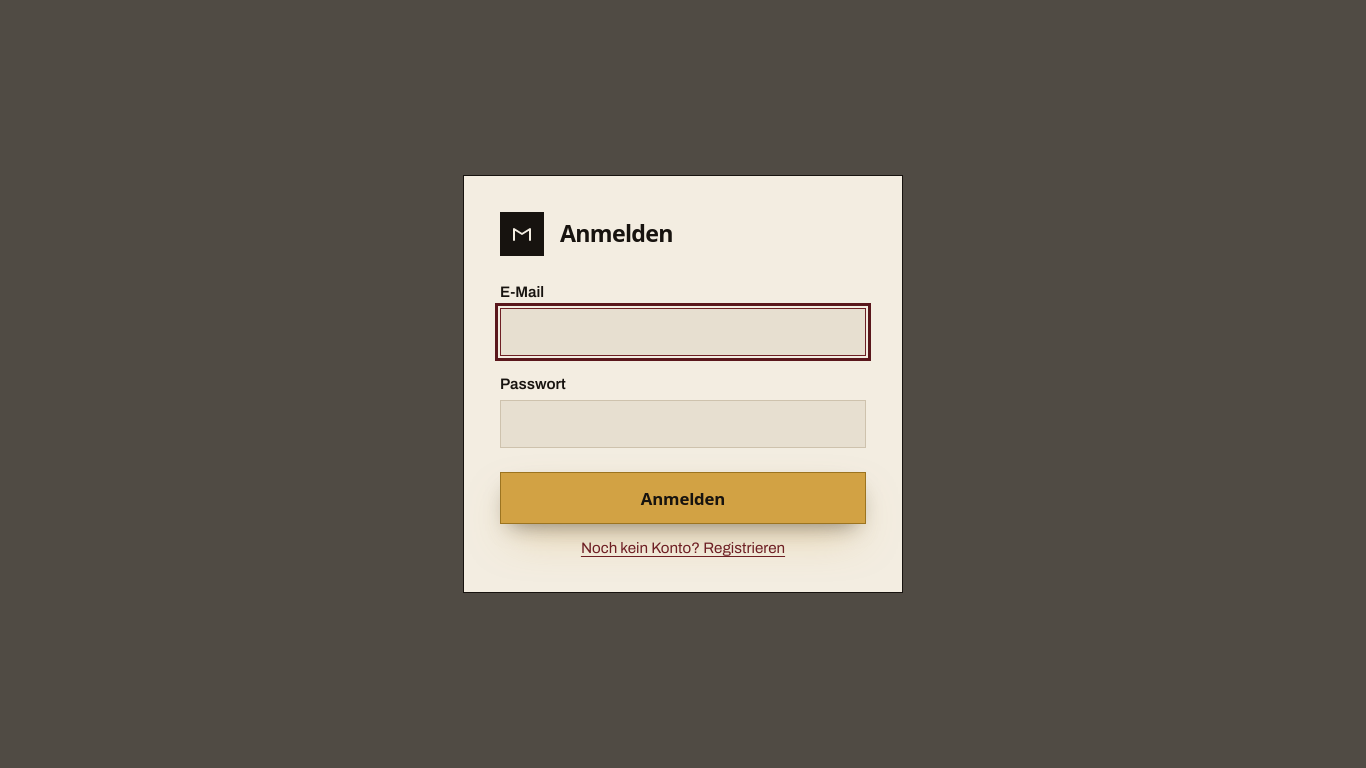
Test: AuthModal › shows a "check your email" confirmation message and stays open when signUp needs confirmation
Switch to the sign-up tab (toggle button), then fill + submit.
Click the button "Noch kein Konto? Registrieren".
click(683, 548)  # box [500,540,866,556]
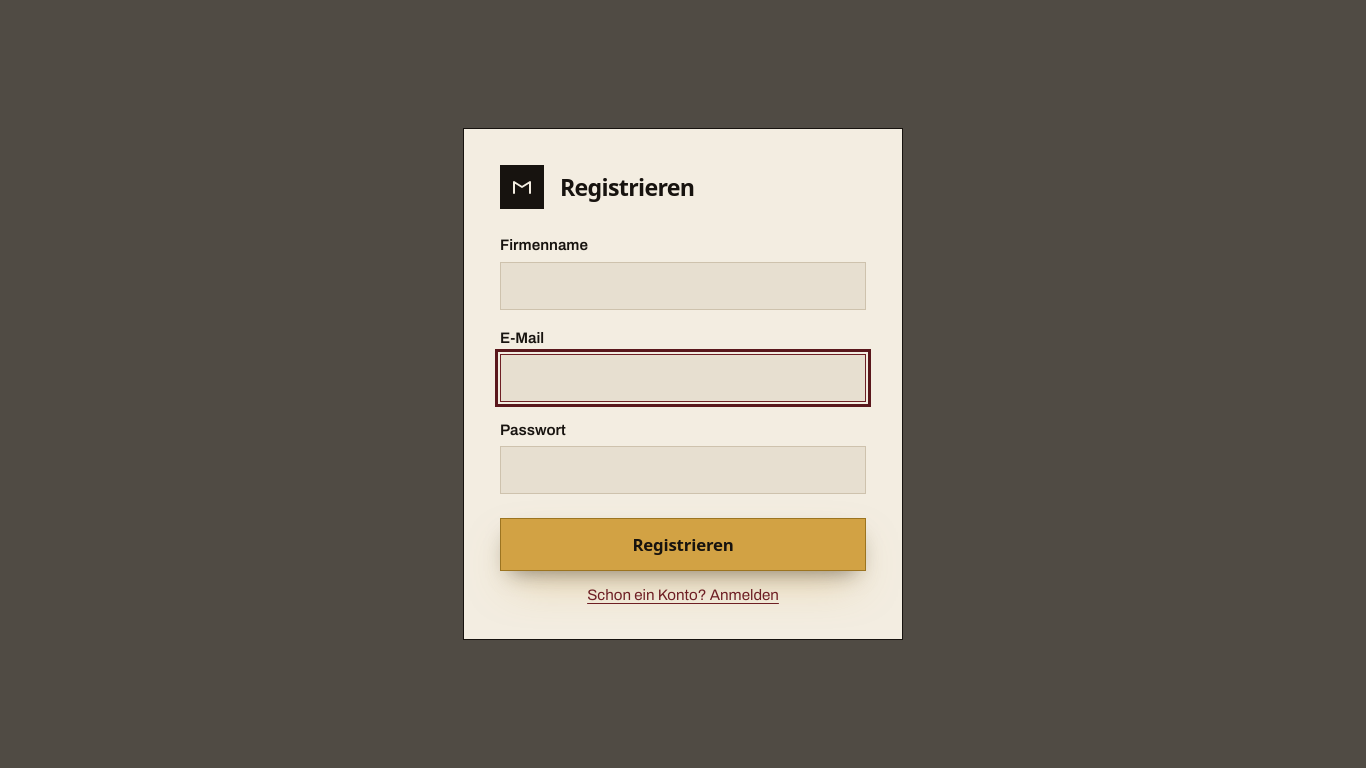
Type "a@b.com" into the field labelled "E-Mail".
click(683, 378); type("a@b.com")  # box [500,354,866,402]
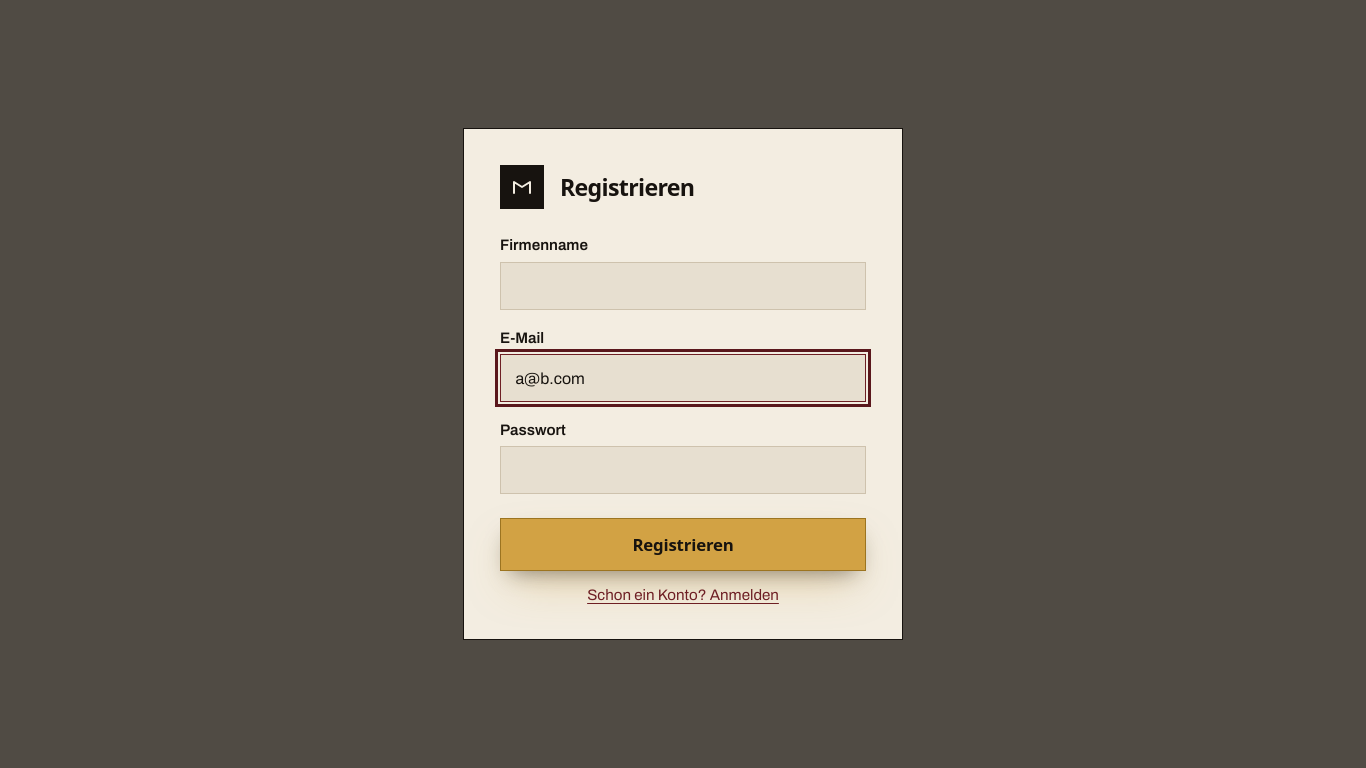
Type "secret123" into the password field labelled "Passwort".
click(683, 470); type("secret123")  # box [500,446,866,494]
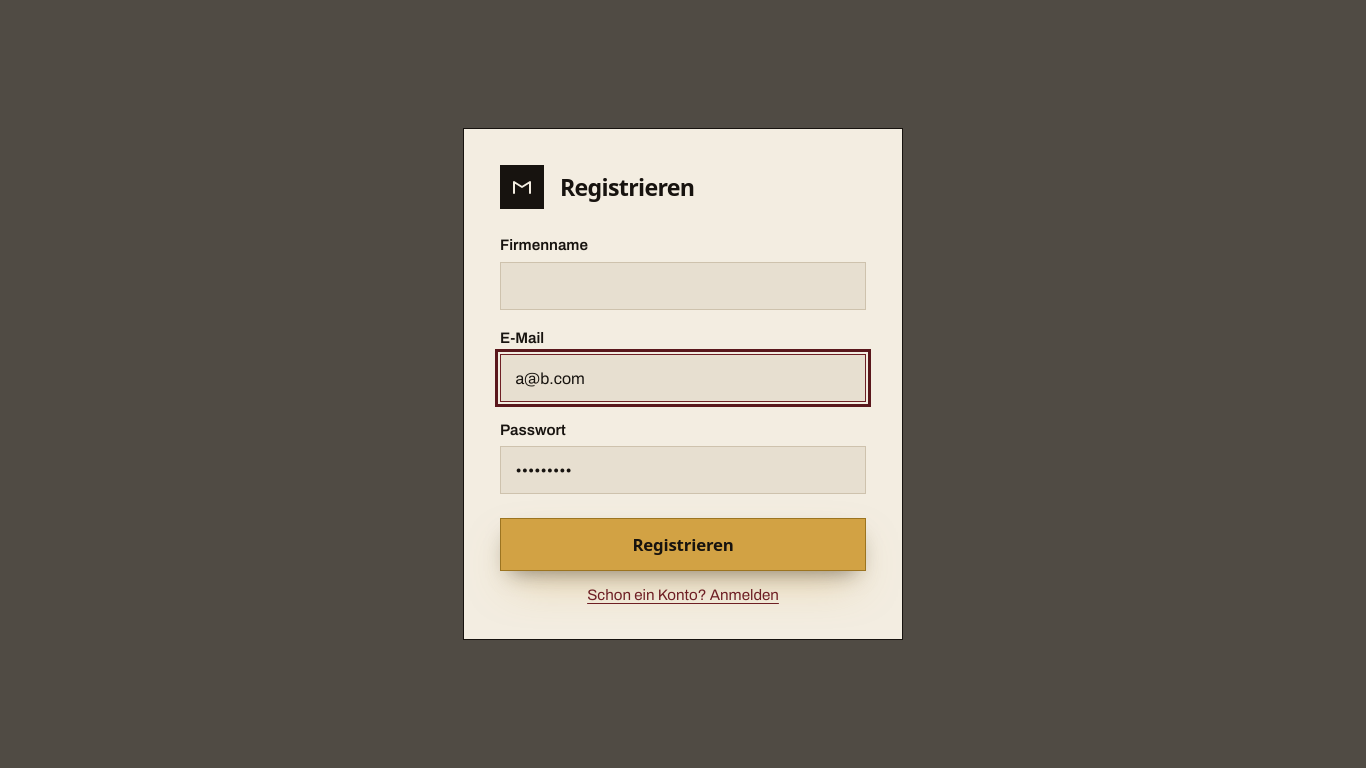
Click the button "Registrieren".
click(683, 544)  # box [500,518,866,571]
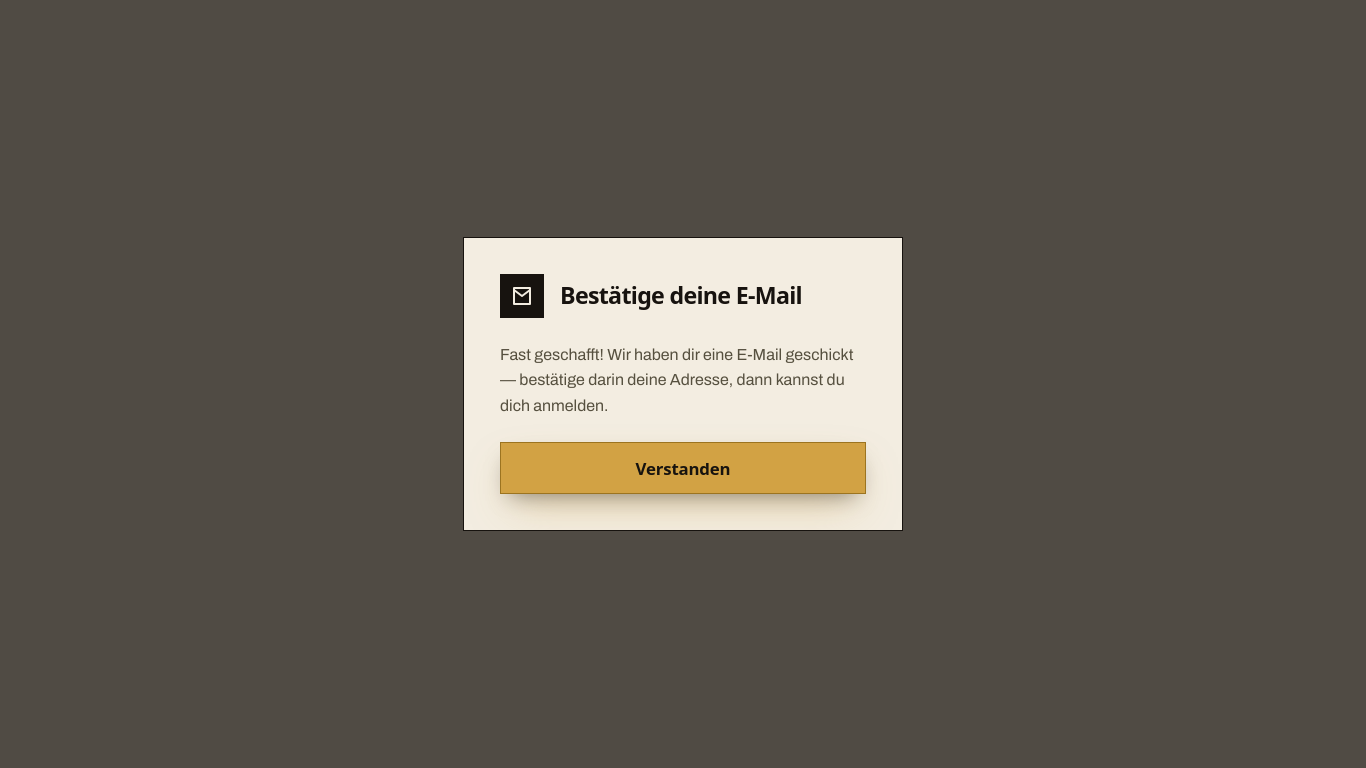
Check: the text "Fast geschafft" is shown, box [500,346,854,414]
